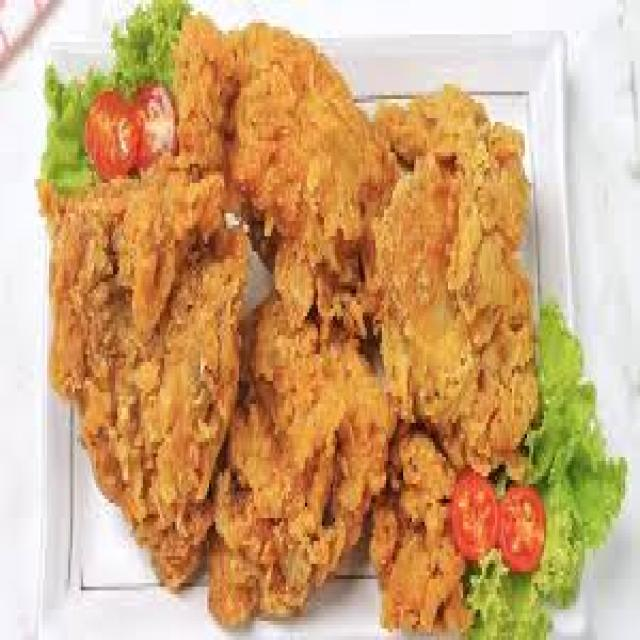ayam_goreng: (43, 15, 545, 636), (181, 21, 542, 424), (46, 154, 247, 542)
